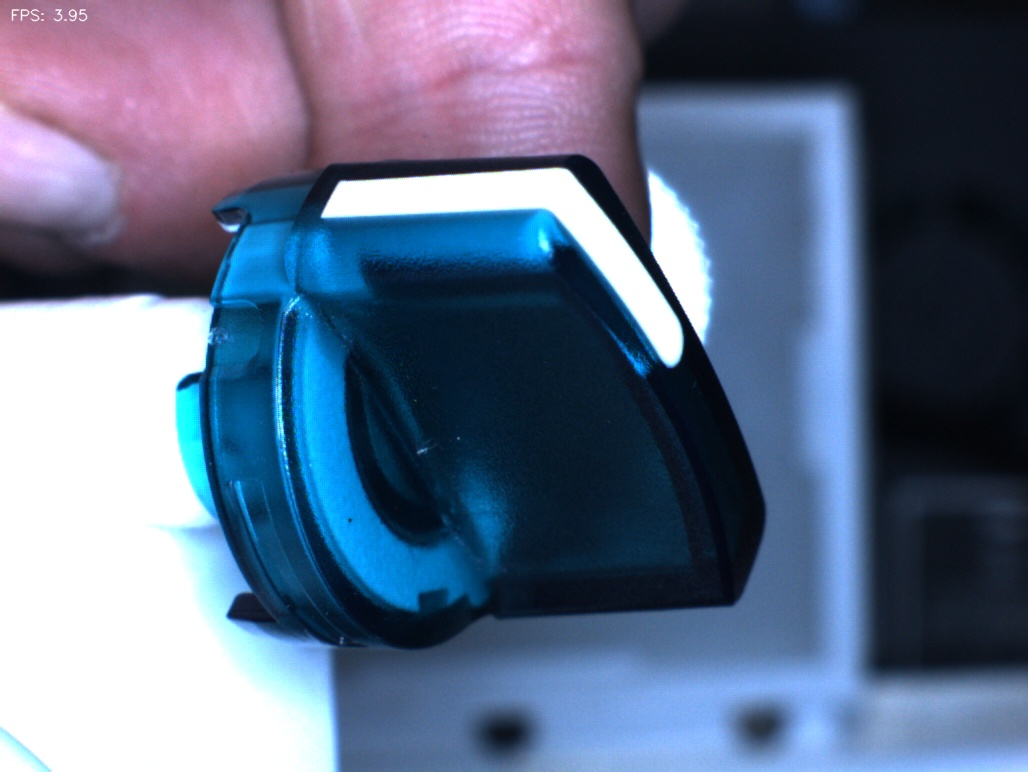PointNoir: (317, 483, 385, 551)
